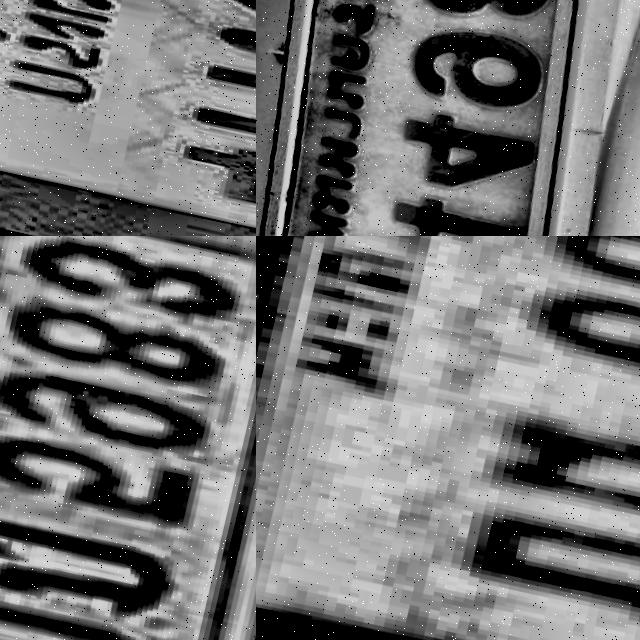license-plate: (256, 236, 640, 640), (0, 236, 256, 640), (256, 0, 640, 236), (0, 0, 256, 236)
